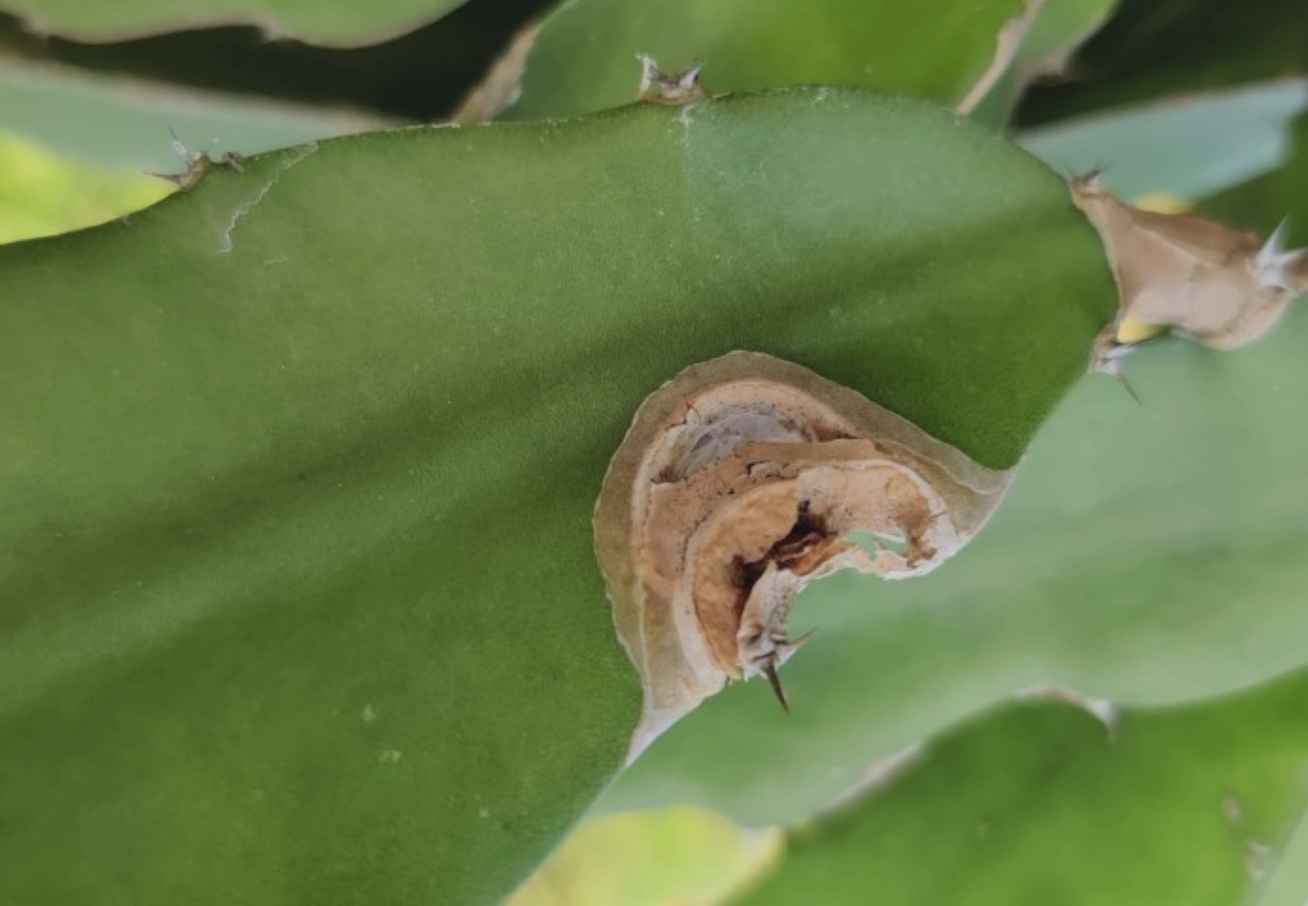stemcanker: (541, 314, 1051, 765)
